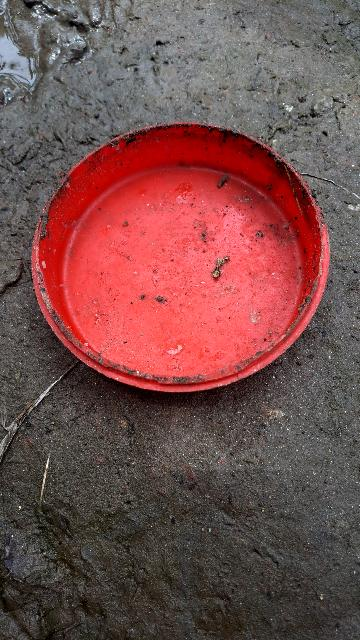hardplastic: (24, 124, 348, 410)
